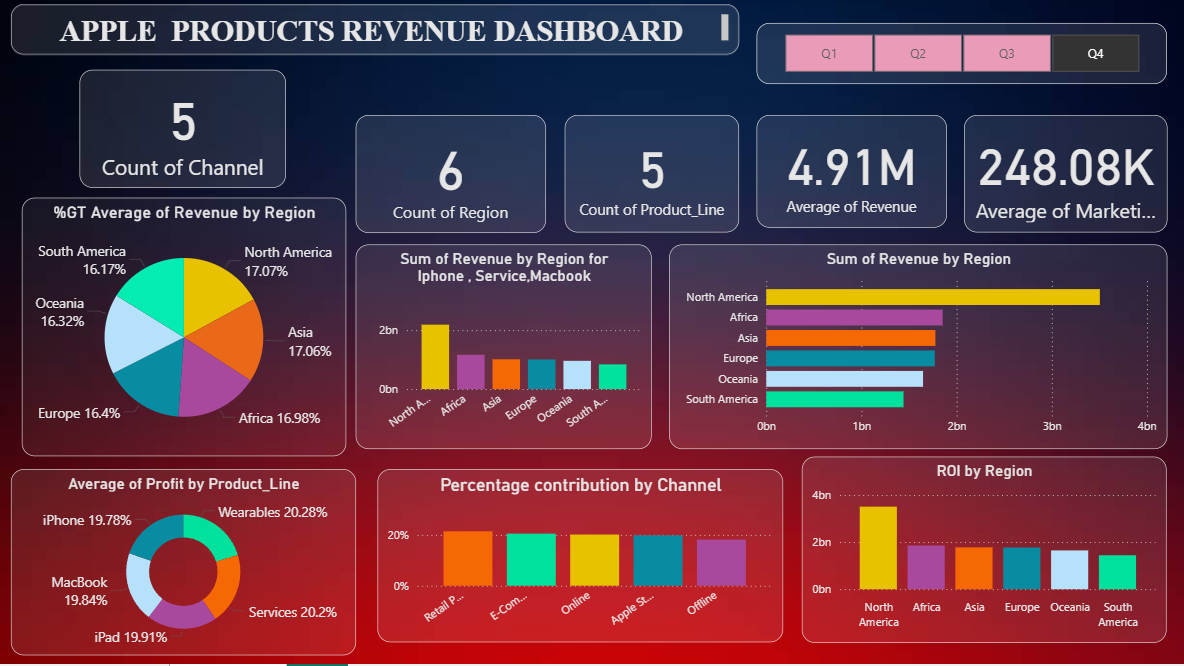

This screenshot's page, from the dashboard's own definition file:
{"tool":"powerbi","page":{"name":"Page 1","canvas":[1280,720],"ordinal":0},"visuals":[{"type":"textbox","box":[11.4,7.1,787.1,54.3],"z":0},{"type":"barChart","fields":{"Category":["DA Dataset.Region"],"Y":["Sum(DA Dataset.Revenue)"]},"box":[722.9,267.1,538.6,221.4],"z":1000},{"type":"pieChart","fields":{"Y":["Sum(DA Dataset.Revenue)"],"Category":["DA Dataset.Region"]},"box":[22.8,216.1,350.6,279.8],"z":2000},{"type":"donutChart","fields":{"Category":["DA Dataset.Product_Line"],"Y":["Avg(DA Dataset.Profit)"]},"box":[11.4,510,372.9,201.4],"z":3000},{"type":"lineClusteredColumnComboChart","fields":{"Y":["Sum(DA Dataset.Profit)"],"Category":["DA Dataset.Channel"]},"box":[408.6,510,438.6,187.1],"z":4000},{"type":"lineStackedColumnComboChart","title":"Sum of Revenue by Region for Iphone , Service,Macbook","fields":{"Category":["DA Dataset.Region"],"Y":["Sum(DA Dataset.Revenue)"]},"box":[384.3,267.1,320,221.4],"z":5000},{"type":"columnChart","fields":{"Category":["DA Dataset.Region"],"Y":["DA Dataset.ROI"]},"box":[867.1,495.7,394.3,201.4],"z":6000},{"type":"card","fields":{"Values":["Count(DA Dataset.Region)"]},"box":[384.1,127.3,205.5,127.3],"z":7000},{"type":"card","fields":{"Values":["Count(DA Dataset.Product_Line)"]},"box":[610,127.1,188.6,127.1],"z":8000},{"type":"card","fields":{"Values":["Avg(DA Dataset.Marketing_Expense)"]},"box":[1041.4,127.1,220,127.1],"z":9000},{"type":"card","fields":{"Values":["Count(DA Dataset.Channel)"]},"box":[86,77,223.3,127.3],"z":10000},{"type":"slicer","fields":{"Values":["DA Dataset.Quarter"]},"box":[817.4,26.8,443.3,65.9],"z":11000},{"type":"card","fields":{"Values":["Avg(DA Dataset.Revenue)"]},"box":[817.4,127.3,205.5,121.7],"z":12000}]}

Visuals, with their boxes in screenshot pixels (x1, y1, x2, y2), scaled from the page's 1280x720 canvas onto the 1184x666 screenshot:
textbox: BBox(11, 7, 739, 57)
barChart - DA Dataset.Region x Sum(DA Dataset.Revenue): BBox(669, 247, 1167, 452)
pieChart - Sum(DA Dataset.Revenue) x DA Dataset.Region: BBox(21, 200, 345, 459)
donutChart - DA Dataset.Product_Line x Avg(DA Dataset.Profit): BBox(11, 472, 355, 658)
lineClusteredColumnComboChart - Sum(DA Dataset.Profit) x DA Dataset.Channel: BBox(378, 472, 784, 645)
"Sum of Revenue by Region for Iphone , Service,Macbook" lineStackedColumnComboChart: BBox(355, 247, 651, 452)
columnChart - DA Dataset.Region x DA Dataset.ROI: BBox(802, 459, 1167, 645)
card - Count(DA Dataset.Region): BBox(355, 118, 545, 236)
card - Count(DA Dataset.Product_Line): BBox(564, 118, 739, 235)
card - Avg(DA Dataset.Marketing_Expense): BBox(963, 118, 1167, 235)
card - Count(DA Dataset.Channel): BBox(80, 71, 286, 189)
slicer - DA Dataset.Quarter: BBox(756, 25, 1166, 86)
card - Avg(DA Dataset.Revenue): BBox(756, 118, 946, 230)
